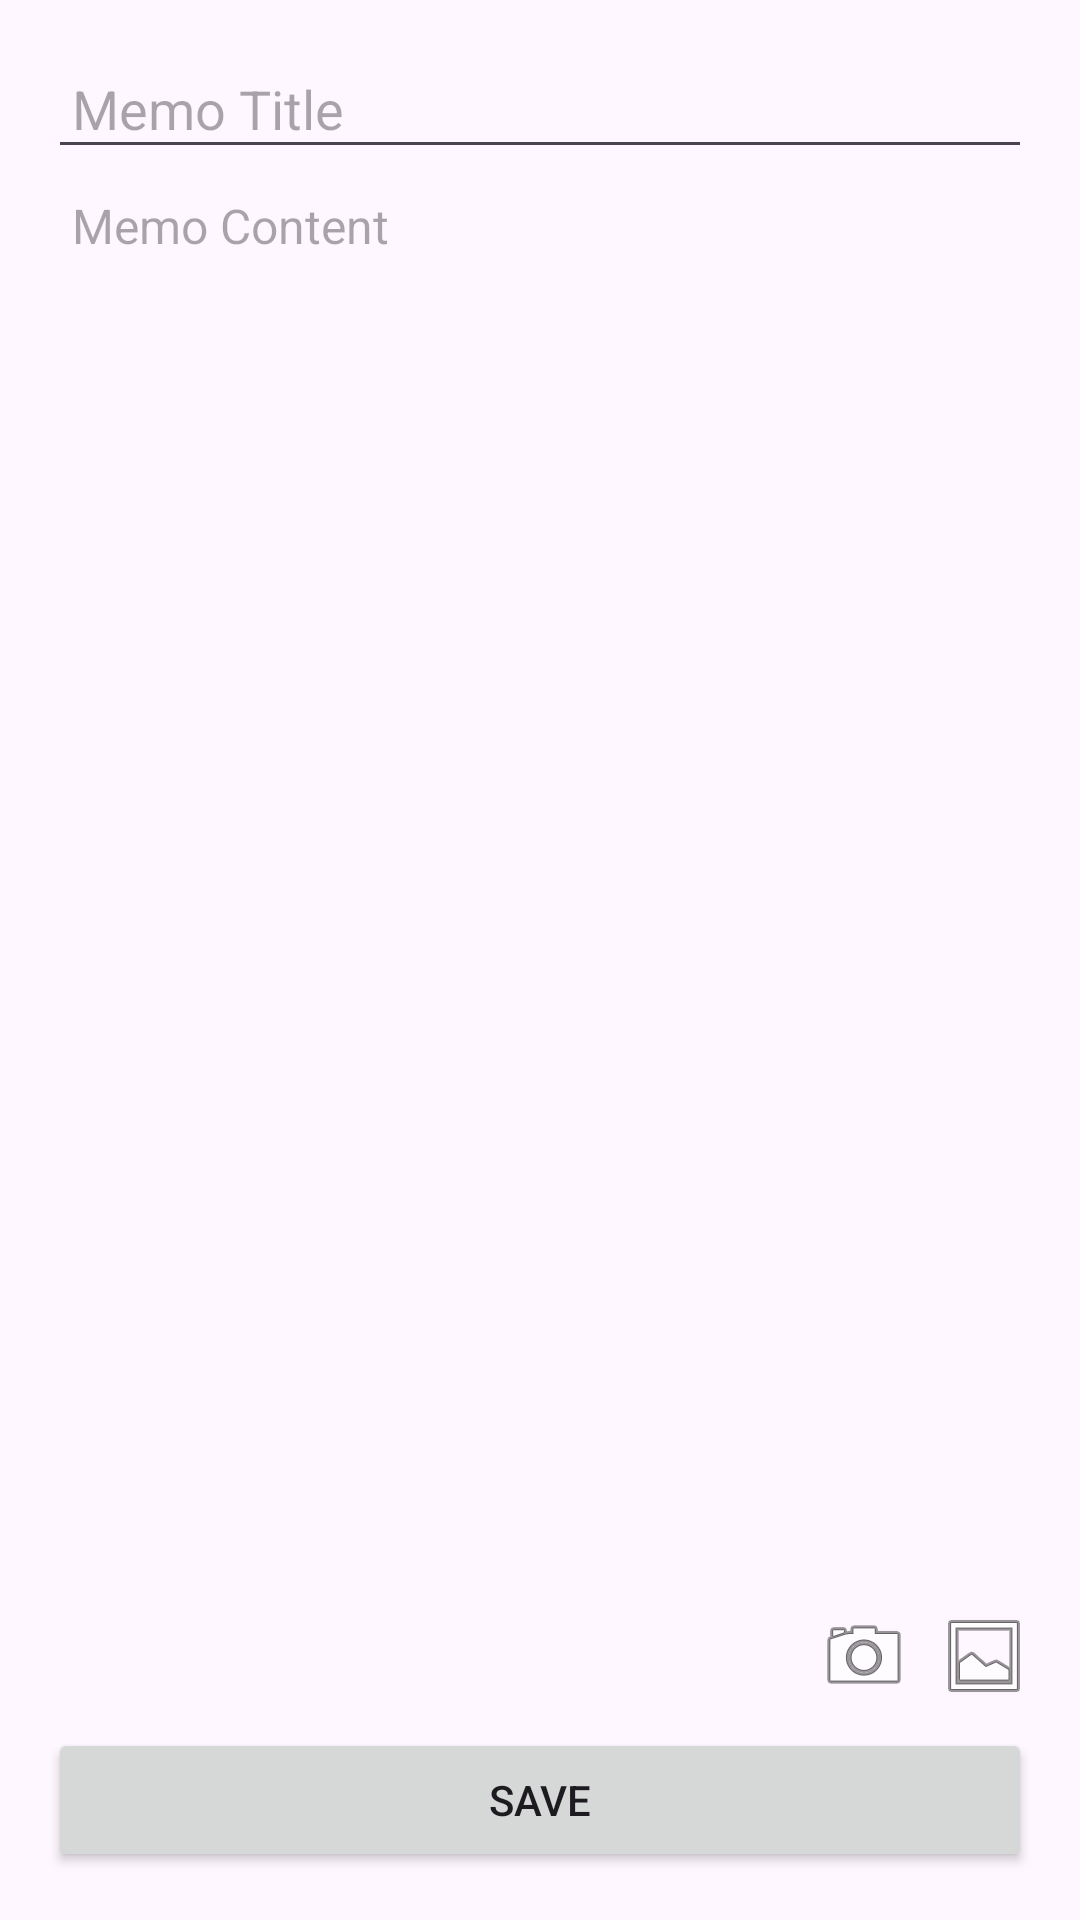

Icons on this 1080×1920 Android screen, each with the point to tap as [x,y]:
Camera: [864,1654]
Gallery: [984,1656]
